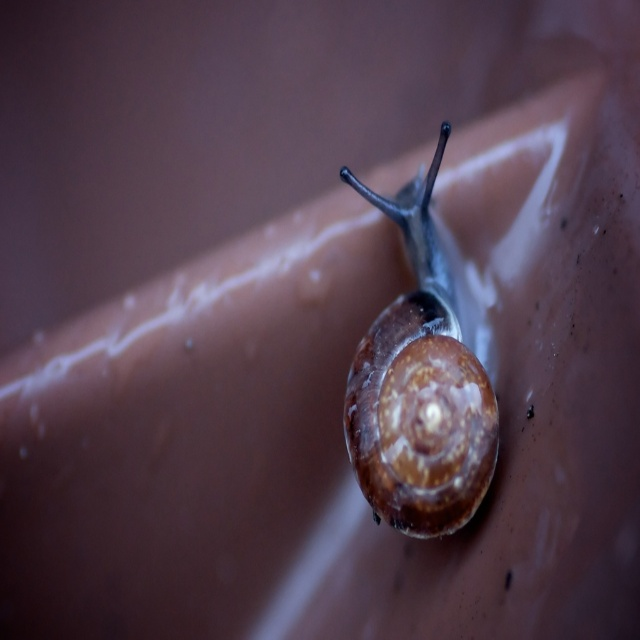Snail: (339, 122, 499, 542)
